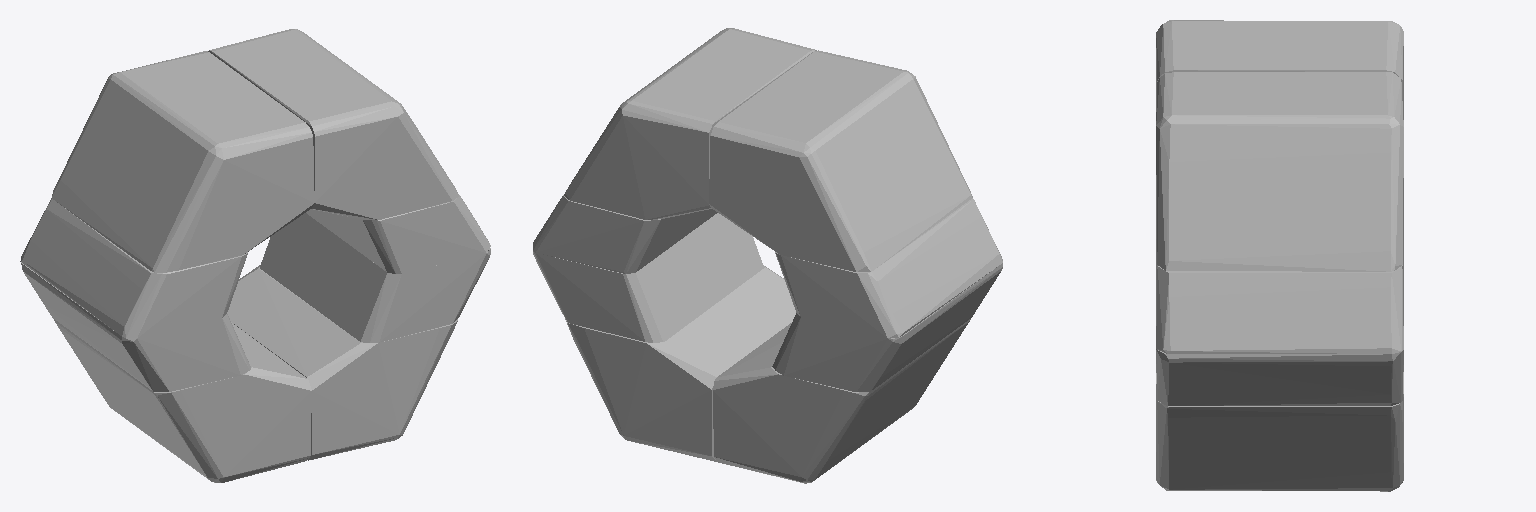
URDF robot description (root):
<robot name="root">
  <link name="link_Nut_convex_piece_0">
    <inertial>
      <origin xyz="0 0 0" rpy="0 0 0"/>
      <mass value="3.68E-02"/>
      <inertia ixx="4.42E-05" ixy="2.47E-08" ixz="-1.96E-05" iyy="5.20E-05" iyz="7.22E-08" izz="2.54E-05"/>
    </inertial>
    <visual>
      <origin xyz="0 0 0" rpy="0 0 0"/>
      <geometry>
        <mesh filename="Nut_convex_piece_0.obj" scale="1.0000E+00 1.0000E+00 1.0000E+00"/>
      </geometry>
      <material name="">
        <color rgba="7.50E-01 7.50E-01 7.50E-01 1"/>
      </material>
    </visual>
    <collision>
      <origin xyz="0 0 0" rpy="0 0 0"/>
      <geometry>
        <mesh filename="Nut_convex_piece_0.obj" scale="1.0000E+00 1.0000E+00 1.0000E+00"/>
      </geometry>
    </collision>
  </link>
  <link name="link_Nut_convex_piece_1">
    <inertial>
      <origin xyz="0 0 0" rpy="0 0 0"/>
      <mass value="1.78E-02"/>
      <inertia ixx="5.81E-06" ixy="3.20E-08" ixz="-4.62E-06" iyy="2.25E-05" iyz="1.41E-08" izz="2.53E-05"/>
    </inertial>
    <visual>
      <origin xyz="0 0 0" rpy="0 0 0"/>
      <geometry>
        <mesh filename="Nut_convex_piece_1.obj" scale="1.0000E+00 1.0000E+00 1.0000E+00"/>
      </geometry>
      <material name="">
        <color rgba="7.50E-01 7.50E-01 7.50E-01 1"/>
      </material>
    </visual>
    <collision>
      <origin xyz="0 0 0" rpy="0 0 0"/>
      <geometry>
        <mesh filename="Nut_convex_piece_1.obj" scale="1.0000E+00 1.0000E+00 1.0000E+00"/>
      </geometry>
    </collision>
  </link>
  <joint name="link_Nut_convex_piece_1_joint" type="fixed">
    <origin xyz="0 0 0" rpy="0 0 0"/>
    <parent link="link_Nut_convex_piece_0"/>
    <child link="link_Nut_convex_piece_1"/>
  </joint>
  <link name="link_Nut_convex_piece_2">
    <inertial>
      <origin xyz="0 0 0" rpy="0 0 0"/>
      <mass value="3.92E-02"/>
      <inertia ixx="4.68E-05" ixy="-2.73E-08" ixz="1.99E-05" iyy="5.46E-05" iyz="4.47E-08" izz="2.66E-05"/>
    </inertial>
    <visual>
      <origin xyz="0 0 0" rpy="0 0 0"/>
      <geometry>
        <mesh filename="Nut_convex_piece_2.obj" scale="1.0000E+00 1.0000E+00 1.0000E+00"/>
      </geometry>
      <material name="">
        <color rgba="7.50E-01 7.50E-01 7.50E-01 1"/>
      </material>
    </visual>
    <collision>
      <origin xyz="0 0 0" rpy="0 0 0"/>
      <geometry>
        <mesh filename="Nut_convex_piece_2.obj" scale="1.0000E+00 1.0000E+00 1.0000E+00"/>
      </geometry>
    </collision>
  </link>
  <joint name="link_Nut_convex_piece_2_joint" type="fixed">
    <origin xyz="0 0 0" rpy="0 0 0"/>
    <parent link="link_Nut_convex_piece_1"/>
    <child link="link_Nut_convex_piece_2"/>
  </joint>
  <link name="link_Nut_convex_piece_3">
    <inertial>
      <origin xyz="0 0 0" rpy="0 0 0"/>
      <mass value="1.71E-02"/>
      <inertia ixx="5.48E-06" ixy="-9.60E-09" ixz="4.32E-06" iyy="2.18E-05" iyz="-1.11E-09" izz="2.45E-05"/>
    </inertial>
    <visual>
      <origin xyz="0 0 0" rpy="0 0 0"/>
      <geometry>
        <mesh filename="Nut_convex_piece_3.obj" scale="1.0000E+00 1.0000E+00 1.0000E+00"/>
      </geometry>
      <material name="">
        <color rgba="7.50E-01 7.50E-01 7.50E-01 1"/>
      </material>
    </visual>
    <collision>
      <origin xyz="0 0 0" rpy="0 0 0"/>
      <geometry>
        <mesh filename="Nut_convex_piece_3.obj" scale="1.0000E+00 1.0000E+00 1.0000E+00"/>
      </geometry>
    </collision>
  </link>
  <joint name="link_Nut_convex_piece_3_joint" type="fixed">
    <origin xyz="0 0 0" rpy="0 0 0"/>
    <parent link="link_Nut_convex_piece_2"/>
    <child link="link_Nut_convex_piece_3"/>
  </joint>
  <link name="link_Nut_convex_piece_4">
    <inertial>
      <origin xyz="0 0 0" rpy="0 0 0"/>
      <mass value="1.92E-02"/>
      <inertia ixx="6.29E-06" ixy="2.26E-08" ixz="4.87E-06" iyy="2.43E-05" iyz="-5.07E-09" izz="2.72E-05"/>
    </inertial>
    <visual>
      <origin xyz="0 0 0" rpy="0 0 0"/>
      <geometry>
        <mesh filename="Nut_convex_piece_4.obj" scale="1.0000E+00 1.0000E+00 1.0000E+00"/>
      </geometry>
      <material name="">
        <color rgba="7.50E-01 7.50E-01 7.50E-01 1"/>
      </material>
    </visual>
    <collision>
      <origin xyz="0 0 0" rpy="0 0 0"/>
      <geometry>
        <mesh filename="Nut_convex_piece_4.obj" scale="1.0000E+00 1.0000E+00 1.0000E+00"/>
      </geometry>
    </collision>
  </link>
  <joint name="link_Nut_convex_piece_4_joint" type="fixed">
    <origin xyz="0 0 0" rpy="0 0 0"/>
    <parent link="link_Nut_convex_piece_3"/>
    <child link="link_Nut_convex_piece_4"/>
  </joint>
  <link name="link_Nut_convex_piece_5">
    <inertial>
      <origin xyz="0 0 0" rpy="0 0 0"/>
      <mass value="3.71E-02"/>
      <inertia ixx="4.50E-05" ixy="-4.17E-09" ixz="1.94E-05" iyy="5.23E-05" iyz="3.75E-08" izz="2.51E-05"/>
    </inertial>
    <visual>
      <origin xyz="0 0 0" rpy="0 0 0"/>
      <geometry>
        <mesh filename="Nut_convex_piece_5.obj" scale="1.0000E+00 1.0000E+00 1.0000E+00"/>
      </geometry>
      <material name="">
        <color rgba="7.50E-01 7.50E-01 7.50E-01 1"/>
      </material>
    </visual>
    <collision>
      <origin xyz="0 0 0" rpy="0 0 0"/>
      <geometry>
        <mesh filename="Nut_convex_piece_5.obj" scale="1.0000E+00 1.0000E+00 1.0000E+00"/>
      </geometry>
    </collision>
  </link>
  <joint name="link_Nut_convex_piece_5_joint" type="fixed">
    <origin xyz="0 0 0" rpy="0 0 0"/>
    <parent link="link_Nut_convex_piece_4"/>
    <child link="link_Nut_convex_piece_5"/>
  </joint>
  <link name="link_Nut_convex_piece_6">
    <inertial>
      <origin xyz="0 0 0" rpy="0 0 0"/>
      <mass value="1.90E-02"/>
      <inertia ixx="6.17E-06" ixy="-2.42E-08" ixz="-4.76E-06" iyy="2.40E-05" iyz="-6.46E-09" izz="2.70E-05"/>
    </inertial>
    <visual>
      <origin xyz="0 0 0" rpy="0 0 0"/>
      <geometry>
        <mesh filename="Nut_convex_piece_6.obj" scale="1.0000E+00 1.0000E+00 1.0000E+00"/>
      </geometry>
      <material name="">
        <color rgba="7.50E-01 7.50E-01 7.50E-01 1"/>
      </material>
    </visual>
    <collision>
      <origin xyz="0 0 0" rpy="0 0 0"/>
      <geometry>
        <mesh filename="Nut_convex_piece_6.obj" scale="1.0000E+00 1.0000E+00 1.0000E+00"/>
      </geometry>
    </collision>
  </link>
  <joint name="link_Nut_convex_piece_6_joint" type="fixed">
    <origin xyz="0 0 0" rpy="0 0 0"/>
    <parent link="link_Nut_convex_piece_5"/>
    <child link="link_Nut_convex_piece_6"/>
  </joint>
  <link name="link_Nut_convex_piece_7">
    <inertial>
      <origin xyz="0 0 0" rpy="0 0 0"/>
      <mass value="3.75E-02"/>
      <inertia ixx="4.52E-05" ixy="9.45E-10" ixz="-1.95E-05" iyy="5.27E-05" iyz="2.89E-08" izz="2.55E-05"/>
    </inertial>
    <visual>
      <origin xyz="0 0 0" rpy="0 0 0"/>
      <geometry>
        <mesh filename="Nut_convex_piece_7.obj" scale="1.0000E+00 1.0000E+00 1.0000E+00"/>
      </geometry>
      <material name="">
        <color rgba="7.50E-01 7.50E-01 7.50E-01 1"/>
      </material>
    </visual>
    <collision>
      <origin xyz="0 0 0" rpy="0 0 0"/>
      <geometry>
        <mesh filename="Nut_convex_piece_7.obj" scale="1.0000E+00 1.0000E+00 1.0000E+00"/>
      </geometry>
    </collision>
  </link>
  <joint name="link_Nut_convex_piece_7_joint" type="fixed">
    <origin xyz="0 0 0" rpy="0 0 0"/>
    <parent link="link_Nut_convex_piece_6"/>
    <child link="link_Nut_convex_piece_7"/>
  </joint>
</robot>

--- Render facts (derived) ---
The picture shows the robot from 3 angles, left to right: view 1: azimuth 30°, elevation 25°; view 2: azimuth 150°, elevation 25°; view 3: azimuth 270°, elevation 25°; orthographic projection.
Robot: root — 8 links, 7 joints (7 fixed); root link link_Nut_convex_piece_0; default pose: every joint at zero.
Visible links, largest first — view 1: link_Nut_convex_piece_2, link_Nut_convex_piece_0, link_Nut_convex_piece_5, link_Nut_convex_piece_7, link_Nut_convex_piece_4, link_Nut_convex_piece_3, link_Nut_convex_piece_6, link_Nut_convex_piece_1; view 2: link_Nut_convex_piece_2, link_Nut_convex_piece_0, link_Nut_convex_piece_5, link_Nut_convex_piece_7, link_Nut_convex_piece_4, link_Nut_convex_piece_3, link_Nut_convex_piece_6, link_Nut_convex_piece_1; view 3: link_Nut_convex_piece_0, link_Nut_convex_piece_5, link_Nut_convex_piece_1, link_Nut_convex_piece_4, link_Nut_convex_piece_2.
Boxes of the visible links, x1,y1,x2,y2 form: link_Nut_convex_piece_2: [52, 51, 314, 272]; link_Nut_convex_piece_0: [208, 29, 458, 219]; link_Nut_convex_piece_5: [227, 265, 457, 460]; link_Nut_convex_piece_7: [54, 319, 311, 482]; link_Nut_convex_piece_4: [260, 213, 490, 342]; link_Nut_convex_piece_3: [20, 198, 247, 338]; link_Nut_convex_piece_6: [21, 262, 250, 391]; link_Nut_convex_piece_1: [306, 195, 490, 273]; link_Nut_convex_piece_2: [709, 50, 972, 271]; link_Nut_convex_piece_0: [564, 28, 816, 219]; link_Nut_convex_piece_5: [565, 266, 795, 461]; link_Nut_convex_piece_7: [713, 319, 970, 483]; link_Nut_convex_piece_4: [533, 213, 763, 342]; link_Nut_convex_piece_3: [775, 198, 1002, 338]; link_Nut_convex_piece_6: [772, 263, 1002, 391]; link_Nut_convex_piece_1: [533, 195, 717, 273]; link_Nut_convex_piece_0: [1156, 72, 1403, 271]; link_Nut_convex_piece_5: [1156, 372, 1403, 491]; link_Nut_convex_piece_1: [1156, 239, 1403, 353]; link_Nut_convex_piece_4: [1156, 349, 1403, 405]; link_Nut_convex_piece_2: [1156, 20, 1403, 119].
Bounding box of the posed robot: 0.1031 × 0.0542 × 0.0904 m (x, y, z).
8 mesh visuals loaded from 8 distinct referenced files (8 OBJ).
